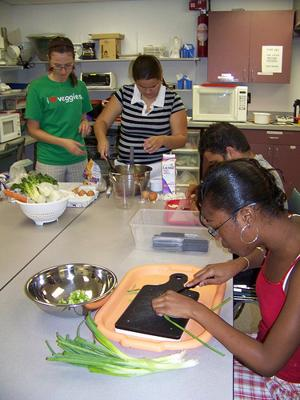person: (151, 157, 300, 400)
